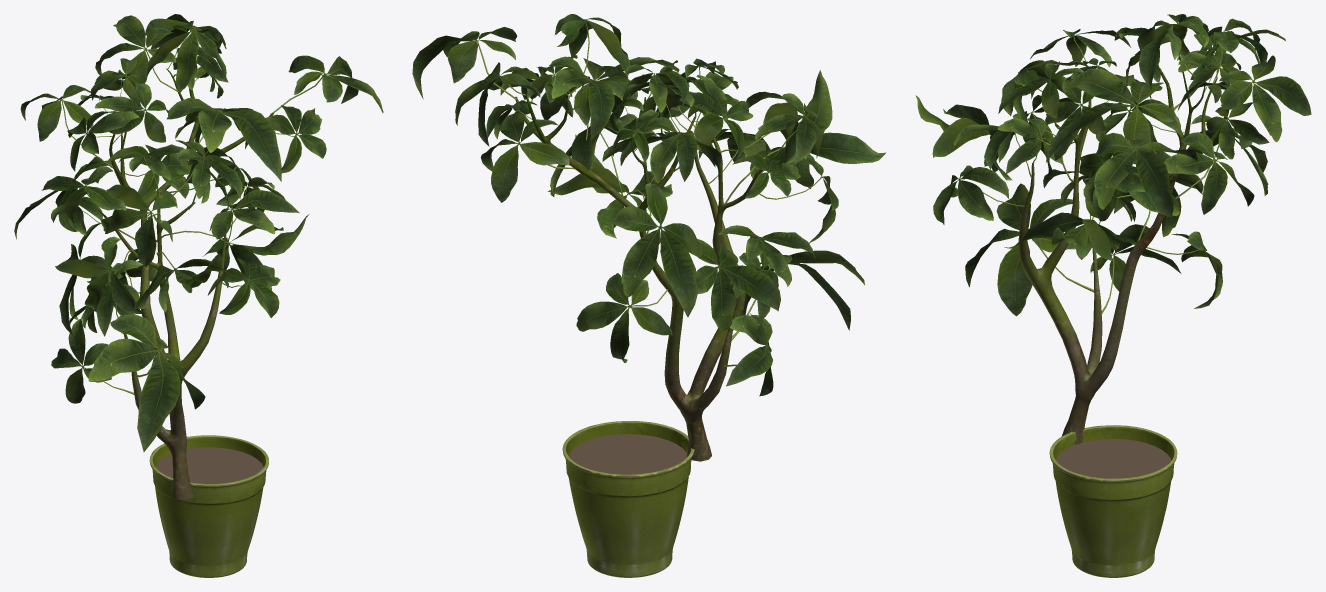
File: ph-money-tree.glb
3 renders of one model, left to right at view 1: azimuth 30°, elevation 25°; view 2: azimuth 150°, elevation 25°; view 3: azimuth 270°, elevation 25°, orthographic. The views are drawn at different scales.
Parts seen in each view (by area): view 1: pachira_aquatica_01_leaves_c, Ecoforms_Plant_Container_12_Pot_Nova, pachira_aquatica_01_bark_c, soil; view 2: pachira_aquatica_01_leaves_c, Ecoforms_Plant_Container_12_Pot_Nova, pachira_aquatica_01_bark_c, soil; view 3: pachira_aquatica_01_leaves_c, Ecoforms_Plant_Container_12_Pot_Nova, pachira_aquatica_01_bark_c, soil.
Boxes of the visible parts, x1=… form: pachira_aquatica_01_leaves_c: x1=14, y1=14, x2=383, y2=452; Ecoforms_Plant_Container_12_Pot_Nova: x1=149, y1=435, x2=268, y2=577; pachira_aquatica_01_bark_c: x1=98, y1=68, x2=273, y2=499; soil: x1=155, y1=447, x2=263, y2=483; pachira_aquatica_01_leaves_c: x1=412, y1=14, x2=885, y2=396; Ecoforms_Plant_Container_12_Pot_Nova: x1=562, y1=421, x2=694, y2=577; pachira_aquatica_01_bark_c: x1=515, y1=94, x2=776, y2=461; soil: x1=568, y1=434, x2=687, y2=474; pachira_aquatica_01_leaves_c: x1=915, y1=14, x2=1311, y2=316; Ecoforms_Plant_Container_12_Pot_Nova: x1=1049, y1=425, x2=1177, y2=577; pachira_aquatica_01_bark_c: x1=1018, y1=54, x2=1229, y2=444; soil: x1=1056, y1=439, x2=1171, y2=478.
Size of the model in its own units: 0.9753 by 1.41 by 0.9237.
4 materials, 3 textured.
